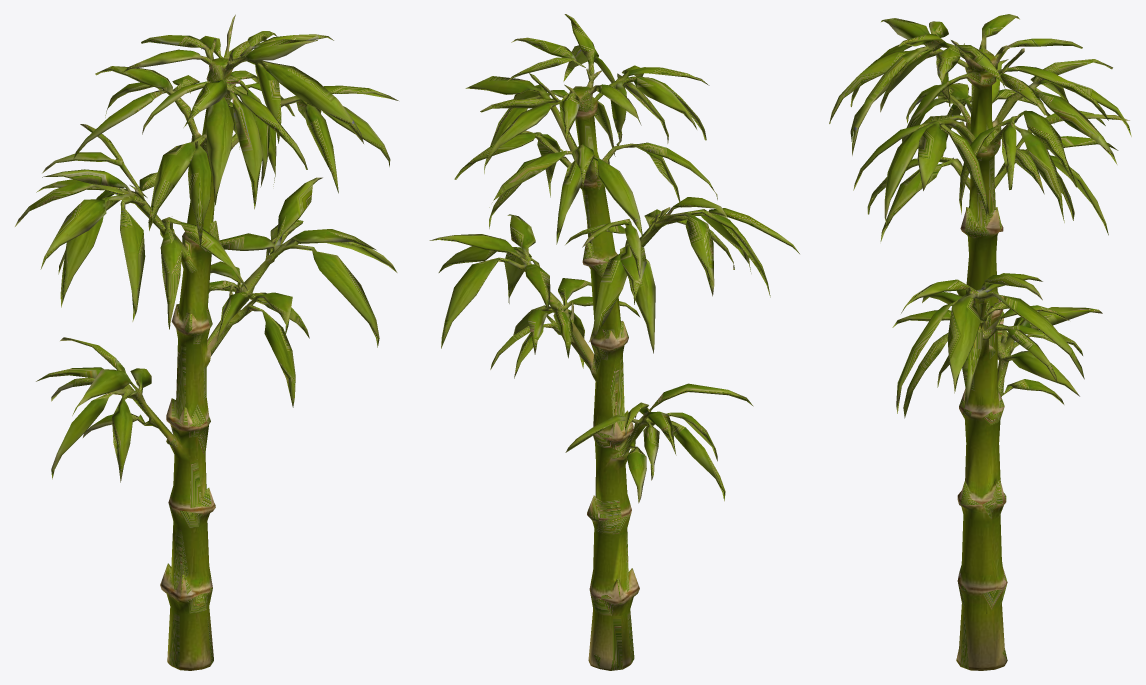
The model's file is prop_truc.aab91f8d3a.glb.
3 renders of one model, left to right at view 1: azimuth 30°, elevation 25°; view 2: azimuth 150°, elevation 25°; view 3: azimuth 270°, elevation 25°, orthographic. The views are drawn at different scales.
Parts seen in each view (by area): view 1: prop_truc; view 2: prop_truc; view 3: prop_truc.
Part boxes in pixels (box(x1,y1,x2,y2)): prop_truc: box(15, 14, 398, 670); prop_truc: box(429, 14, 799, 670); prop_truc: box(829, 14, 1131, 670).
Size of what is drawn, in the model's own units: 4.3 by 7 by 2.91.
1 material, 1 textured.
